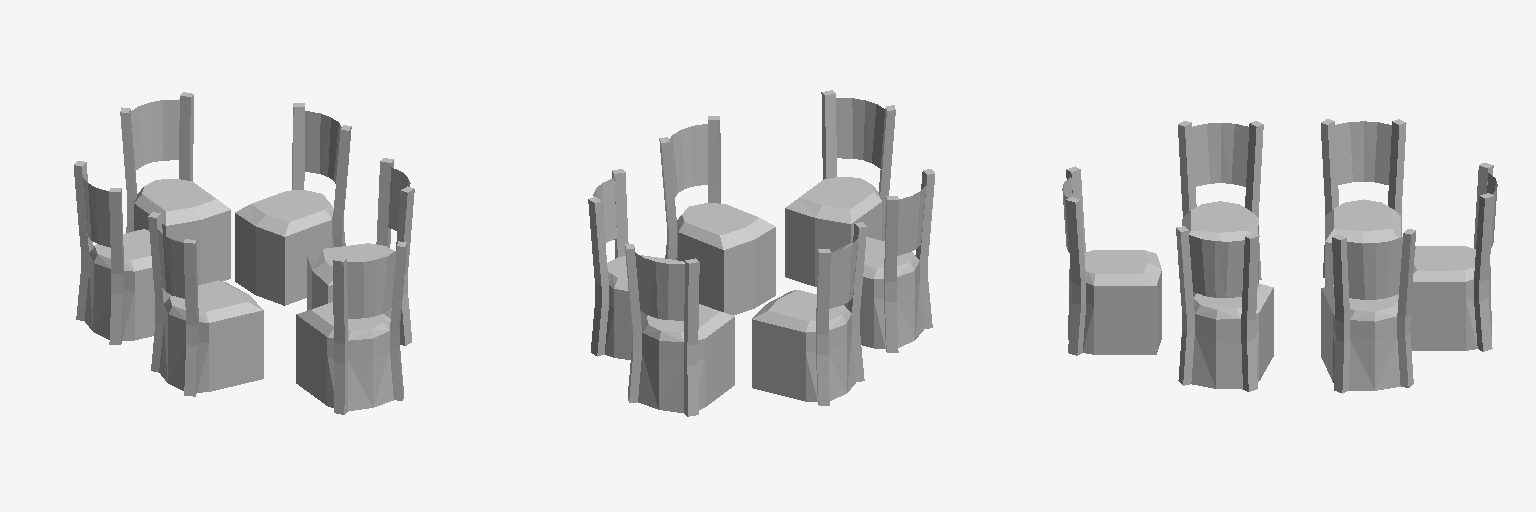
File: table.obj
The picture shows the model from 3 angles: view 1: azimuth 30°, elevation 25°; view 2: azimuth 150°, elevation 25°; view 3: azimuth 270°, elevation 25°; orthographic projection.
Parts seen in each view (by area): view 1: Furniture_Chair_0; view 2: Furniture_Chair_0; view 3: Furniture_Chair_0.
Boxes of the visible parts, box(x1,y1,x2,y2) form: Furniture_Chair_0: box(74, 92, 414, 414); Furniture_Chair_0: box(588, 90, 934, 416); Furniture_Chair_0: box(1062, 119, 1497, 393).
Bounding box in the file's own units: 116 × 67.8 × 173.